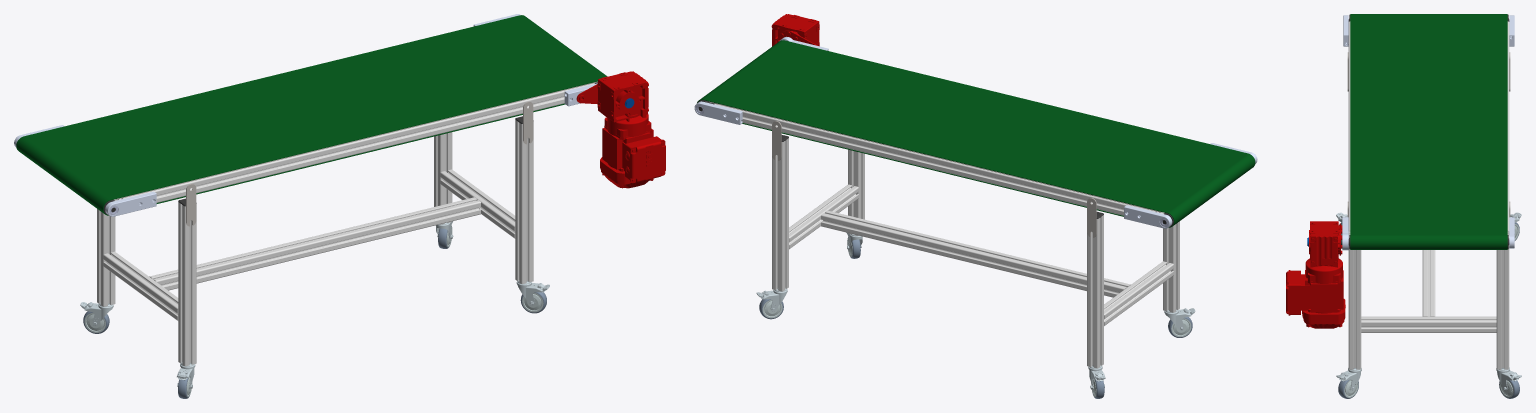
File: complete-conveyor.glb
3 renders of one model, left to right at view 1: azimuth 30°, elevation 25°; view 2: azimuth 150°, elevation 25°; view 3: azimuth 270°, elevation 25°, orthographic. The views are drawn at different scales.
Parts seen in each view (by area): view 1: Gurt^GF40_Direkt-1, Unterbau_Grundrahmen-1 (×2), Spiroplanmotor-1, Teil6^GF40_Direkt_inkl_Unterbau-1, Grundrahmen-1, GF40_Unterbau (×2), GF40_Umlenkplatte-3, Deckblech^GF40_Direkt-1; view 2: Gurt^GF40_Direkt-1, Unterbau_Grundrahmen-1 (×2), Teil6^GF40_Direkt_inkl_Unterbau-1, Grundrahmen-1, GF40_Unterbau (×2), Spiroplanmotor-1, GF40_Umlenkplatte-2, GF40_Umlenkplatte-1, Deckblech^GF40_Direkt-1; view 3: Gurt^GF40_Direkt-1, Unterbau_Grundrahmen-1, Spiroplanmotor-1, GF40_Unterbau (×2), Grundrahmen-1, Teil6^GF40_Direkt_inkl_Unterbau-1, GF40_Direktantriebsplatte-1.
Part boxes in pixels (x1,y1,x2,y2): Gurt^GF40_Direkt-1: [16, 15, 607, 215]; Unterbau_Grundrahmen-1 (×2): [97, 120, 533, 366]; Spiroplanmotor-1: [576, 71, 665, 188]; Teil6^GF40_Direkt_inkl_Unterbau-1: [149, 197, 480, 290]; Grundrahmen-1: [113, 83, 594, 202]; GF40_Unterbau (×2): [80, 116, 549, 398]; GF40_Umlenkplatte-3: [105, 191, 156, 216]; Deckblech^GF40_Direkt-1: [116, 81, 597, 199]; Gurt^GF40_Direkt-1: [697, 40, 1255, 227]; Unterbau_Grundrahmen-1 (×2): [772, 138, 1179, 368]; Teil6^GF40_Direkt_inkl_Unterbau-1: [821, 210, 1130, 297]; Grundrahmen-1: [714, 104, 1164, 215]; GF40_Unterbau (×2): [756, 135, 1195, 398]; Spiroplanmotor-1: [771, 14, 819, 46]; GF40_Umlenkplatte-2: [1124, 205, 1172, 228]; GF40_Umlenkplatte-1: [694, 101, 742, 124]; Deckblech^GF40_Direkt-1: [709, 101, 1161, 212]; Gurt^GF40_Direkt-1: [1350, 14, 1507, 249]; Unterbau_Grundrahmen-1: [1348, 245, 1509, 369]; Spiroplanmotor-1: [1286, 221, 1345, 328]; GF40_Unterbau (×2): [1336, 212, 1521, 398]; Grundrahmen-1: [1348, 21, 1509, 239]; Teil6^GF40_Direkt_inkl_Unterbau-1: [1422, 250, 1435, 316]; GF40_Direktantriebsplatte-1: [1342, 217, 1348, 250].
Bounding box in the file's own units: 1.73 × 0.6968 × 0.7334.
